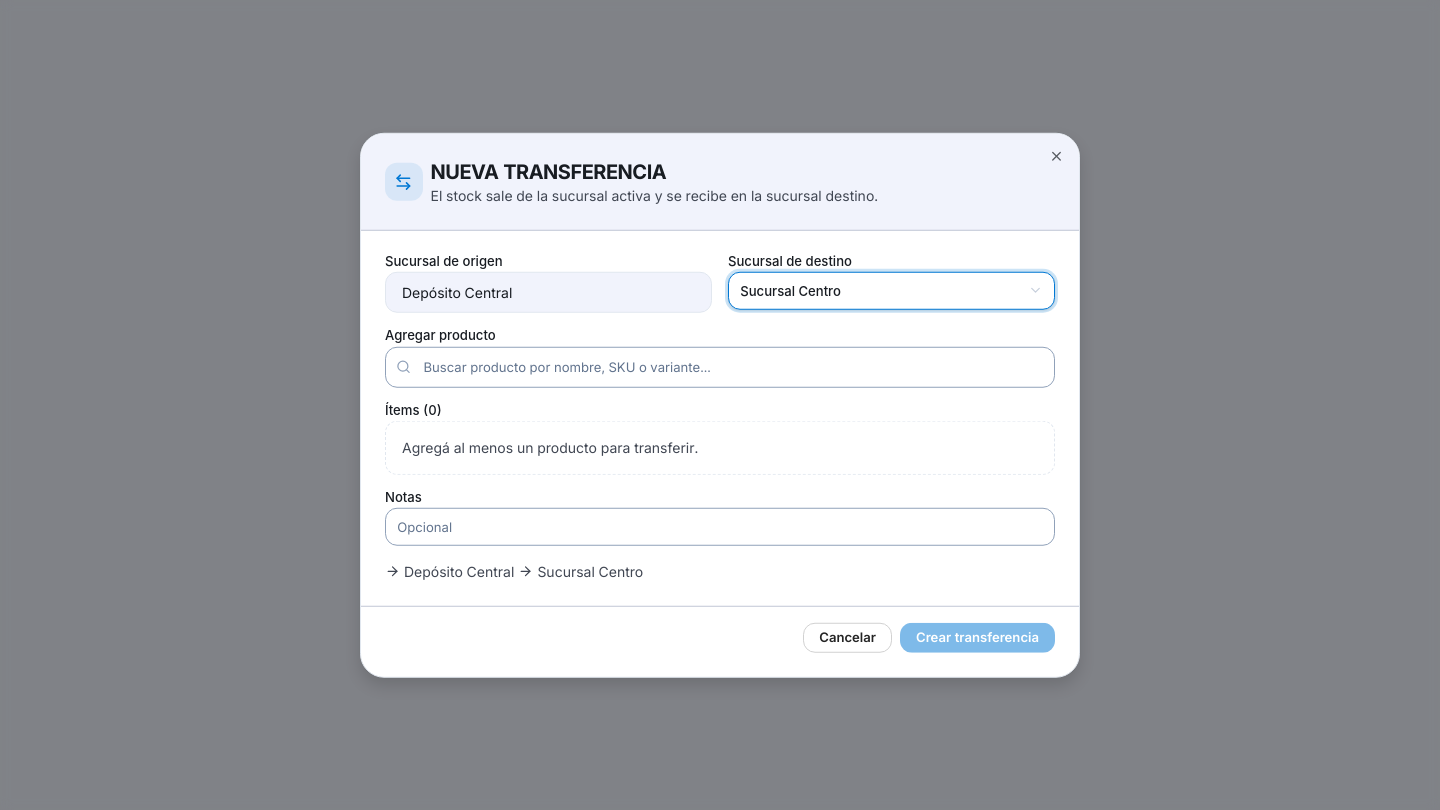
Scenario: CreateTransferModal — creación (F.4/F.5) › lists picked units in a data table with product details (name, SKU, source stock)
Type "yerba" into the field labelled "Agregar producto".
click(720, 367); type("yerba")  # box [385,346,1055,388]
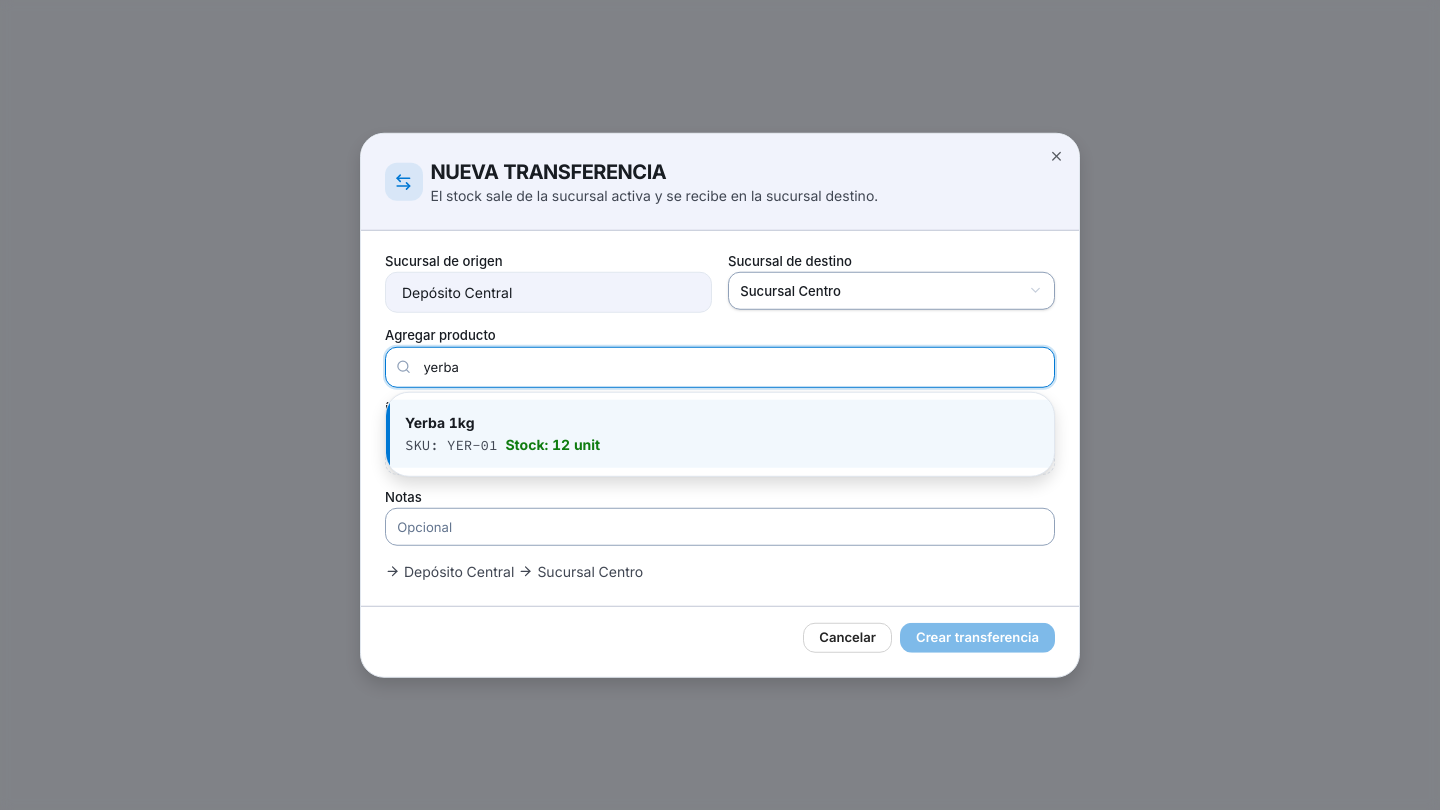
Now the text "Stock: 12 unit" is shown, box [505,435,600,455]
Click the button "Yerba 1kg SKU: YER-01 Stock: 12 unit".
click(440, 422)  # box [386,400,1054,468]
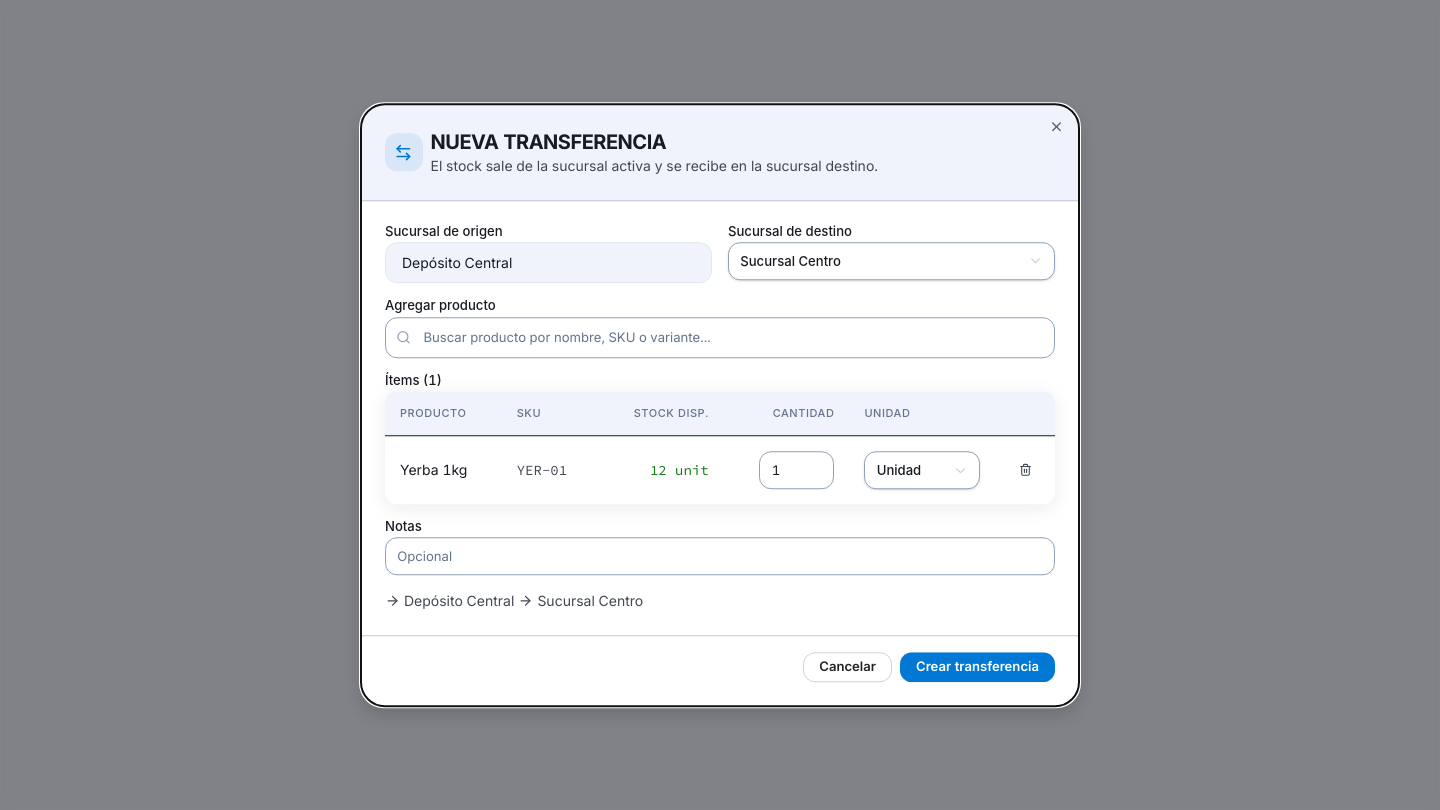
Now the text "12 unit" is shown, box [650,461,709,479]
Now the row with test id "transfer-line-P1" shows "Yerba 1kg", box [400,461,468,478]
Now the row with test id "transfer-line-P1" shows "YER-01", box [517,461,567,479]
